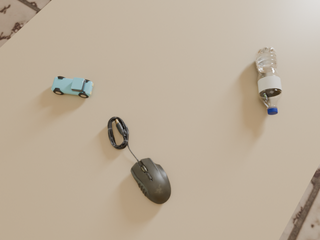bottle: (255, 47, 282, 115)
mouse: (131, 158, 171, 204)
toy_car: (51, 76, 93, 98)
